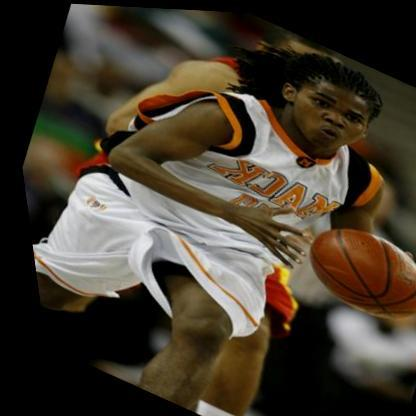basketball: (284, 204, 416, 332)
